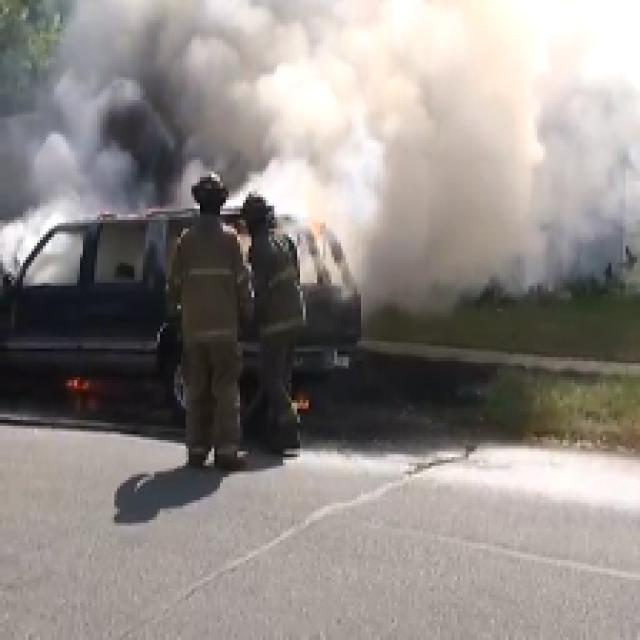Smoke: (80, 5, 640, 199), (354, 205, 632, 286)
